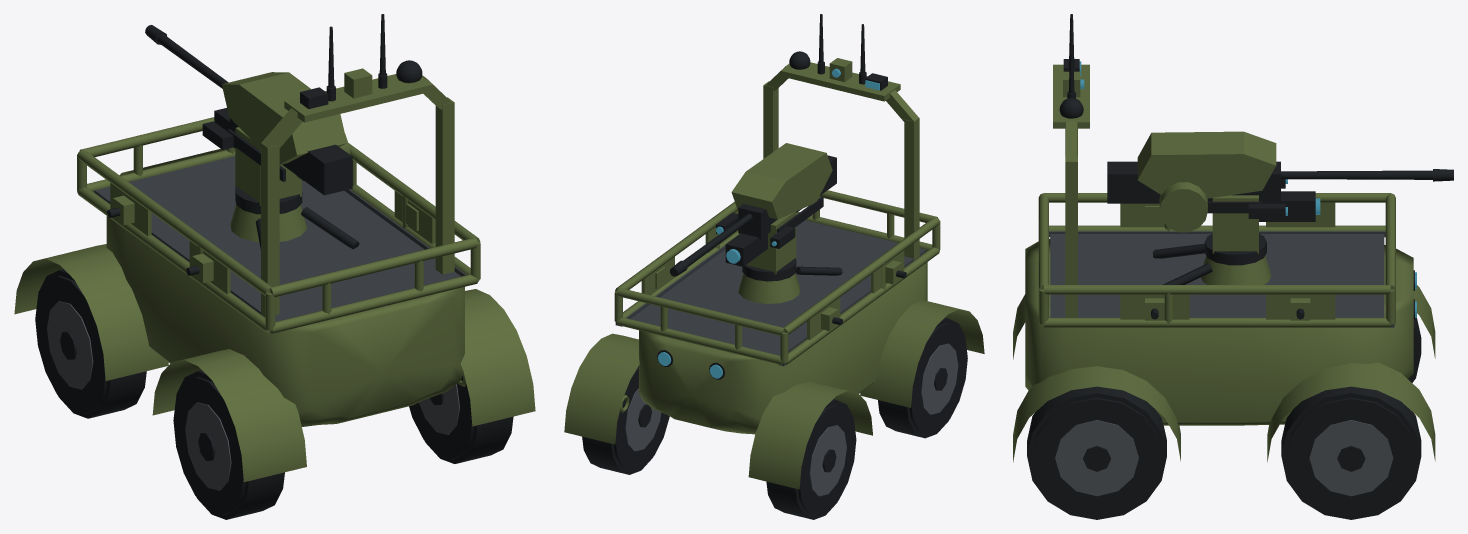
Rendered from ugv-3.glb.
The picture shows the model from 3 angles, left to right: view 1: azimuth 30°, elevation 25°; view 2: azimuth 150°, elevation 25°; view 3: azimuth 270°, elevation 25°; orthographic projection. The views are drawn at different scales.
Parts seen in each view (by area): view 1: ugv-hull, ugv-deck, ugv-mudguard-lb, ugv-mudguard-lf, ugv-mudguard-rb, ugv-cowl, ugv-wheel-lf-shoulder, ugv-wheel-lb-shoulder, ugv-mast-post, ugv-mast-post.001, ugv-rail-top-side-l, ugv-wheel-lf-rim (+26 smaller); view 2: ugv-hull, ugv-deck, ugv-mudguard-lf, ugv-mudguard-rf, ugv-mudguard-lb, ugv-cowl, ugv-wheel-lb-shoulder, ugv-wheel-lf-shoulder, ugv-mast-post.001, ugv-rail-top-side-l, ugv-wheel-rf-shoulder, ugv-wheel-lb-rim (+22 smaller); view 3: ugv-hull, ugv-deck, ugv-cowl, ugv-wheel-rb-shoulder, ugv-wheel-rf-shoulder, ugv-wheel-rf-rim, ugv-wheel-rb-rim, ugv-mudguard-rf, ugv-mudguard-rb, ugv-rail-top-side-r, ugv-wheel-rf-tyre, ugv-wheel-rb-tyre (+25 smaller).
Part boxes in pixels (x1=…): ugv-hull: x1=106, y1=148, x2=464, y2=426; ugv-deck: x1=94, y1=156, x2=460, y2=321; ugv-mudguard-lb: x1=152, y1=349, x2=306, y2=482; ugv-mudguard-lf: x1=14, y1=244, x2=168, y2=380; ugv-mudguard-rb: x1=460, y1=289, x2=535, y2=426; ugv-cowl: x1=221, y1=72, x2=346, y2=164; ugv-wheel-lf-shoulder: x1=35, y1=275, x2=107, y2=414; ugv-wheel-lb-shoulder: x1=173, y1=376, x2=245, y2=515; ugv-mast-post: x1=435, y1=97, x2=454, y2=274; ugv-mast-post.001: x1=261, y1=142, x2=279, y2=316; ugv-rail-top-side-l: x1=77, y1=150, x2=271, y2=295; ugv-wheel-lf-rim: x1=47, y1=301, x2=93, y2=389; ugv-hull: x1=639, y1=217, x2=927, y2=434; ugv-deck: x1=630, y1=220, x2=925, y2=355; ugv-mudguard-lf: x1=748, y1=381, x2=872, y2=489; ugv-mudguard-rf: x1=564, y1=333, x2=639, y2=444; ugv-mudguard-lb: x1=860, y1=300, x2=984, y2=407; ugv-cowl: x1=731, y1=143, x2=832, y2=219; ugv-wheel-lb-shoulder: x1=909, y1=323, x2=967, y2=434; ugv-wheel-lf-shoulder: x1=798, y1=404, x2=856, y2=516; ugv-mast-post.001: x1=904, y1=118, x2=919, y2=259; ugv-rail-top-side-l: x1=783, y1=217, x2=939, y2=334; ugv-wheel-rf-shoulder: x1=613, y1=366, x2=669, y2=471; ugv-wheel-lb-rim: x1=921, y1=343, x2=958, y2=414; ugv-hull: x1=1025, y1=238, x2=1413, y2=425; ugv-deck: x1=1050, y1=234, x2=1384, y2=317; ugv-cowl: x1=1137, y1=131, x2=1276, y2=198; ugv-wheel-rb-shoulder: x1=1032, y1=397, x2=1161, y2=516; ugv-wheel-rf-shoulder: x1=1286, y1=397, x2=1416, y2=516; ugv-wheel-rf-rim: x1=1309, y1=420, x2=1393, y2=496; ugv-wheel-rb-rim: x1=1055, y1=420, x2=1138, y2=496; ugv-mudguard-rf: x1=1267, y1=362, x2=1435, y2=462; ugv-mudguard-rb: x1=1013, y1=366, x2=1180, y2=462; ugv-rail-top-side-r: x1=1044, y1=285, x2=1390, y2=294; ugv-wheel-rf-tyre: x1=1281, y1=386, x2=1421, y2=519; ugv-wheel-rb-tyre: x1=1027, y1=386, x2=1166, y2=519.
Size of the model in its own units: 1.34 by 2.07 by 1.91.
